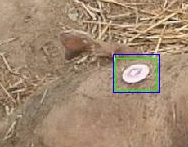text: (115, 58, 156, 90)
